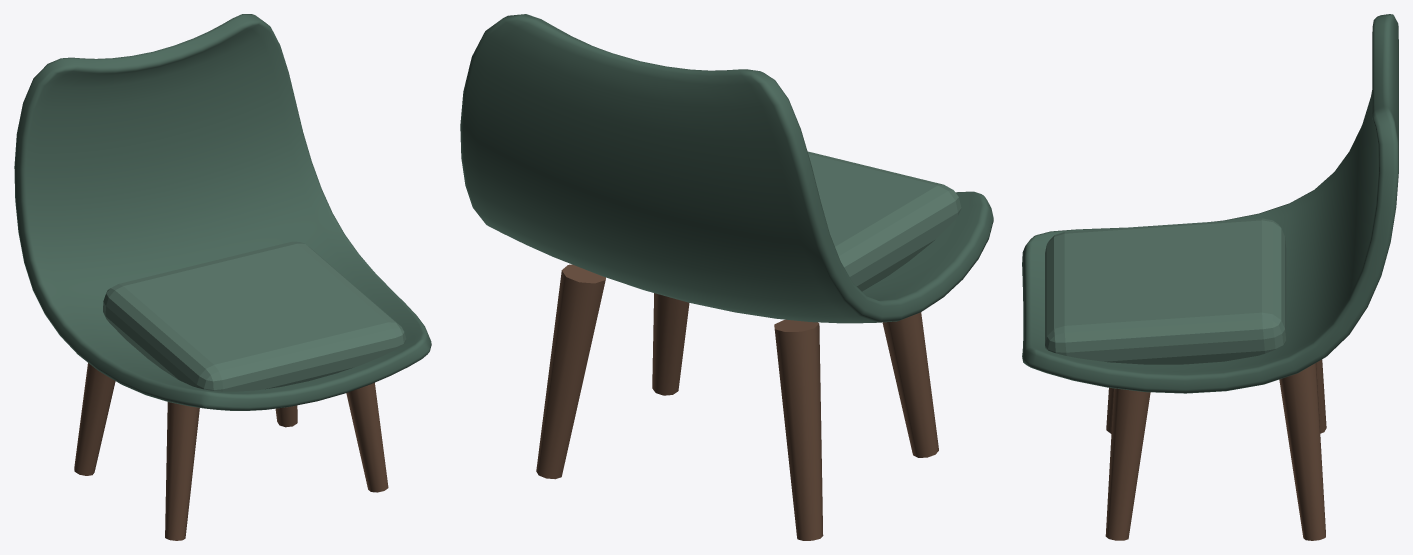
The model's file is chair-shell.glb.
3 renders of one model, left to right at view 1: azimuth 30°, elevation 25°; view 2: azimuth 150°, elevation 25°; view 3: azimuth 270°, elevation 25°, orthographic. The views are drawn at different scales.
Visible parts, largest first — view 1: chair-shell; view 2: chair-shell; view 3: chair-shell.
Boxes of the visible parts, x1=… form: chair-shell: x1=14, y1=14, x2=431, y2=540; chair-shell: x1=460, y1=14, x2=993, y2=540; chair-shell: x1=1022, y1=14, x2=1398, y2=540.
Size of the model in its own units: 0.65 by 0.8 by 0.65.
